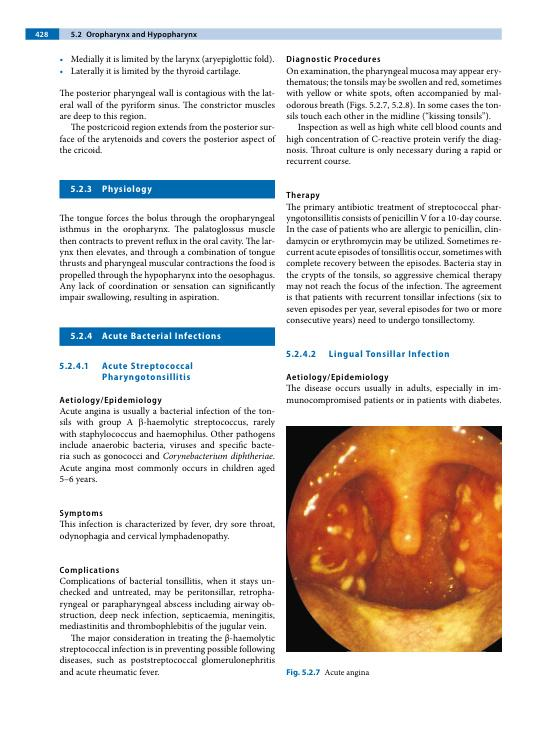caption: (285, 668, 370, 679)
header: (85, 30, 198, 40)
image: (285, 425, 504, 653)
list: (58, 53, 275, 78)
section-heading: (101, 331, 222, 341), (101, 184, 153, 195)
sub-section-heading: (101, 361, 194, 383), (328, 349, 450, 360), (285, 372, 389, 382), (286, 55, 381, 65), (59, 396, 163, 405), (59, 566, 120, 575), (59, 509, 103, 518), (285, 190, 321, 201)
text: (285, 202, 503, 327), (59, 577, 275, 676), (286, 67, 503, 165), (58, 213, 276, 304), (59, 406, 276, 485), (58, 88, 277, 155), (59, 519, 276, 543), (285, 383, 502, 407)
